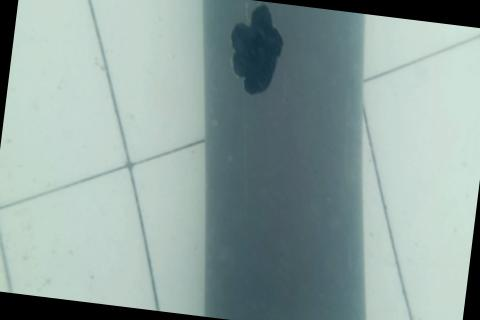kebocoran: (220, 0, 288, 99)
